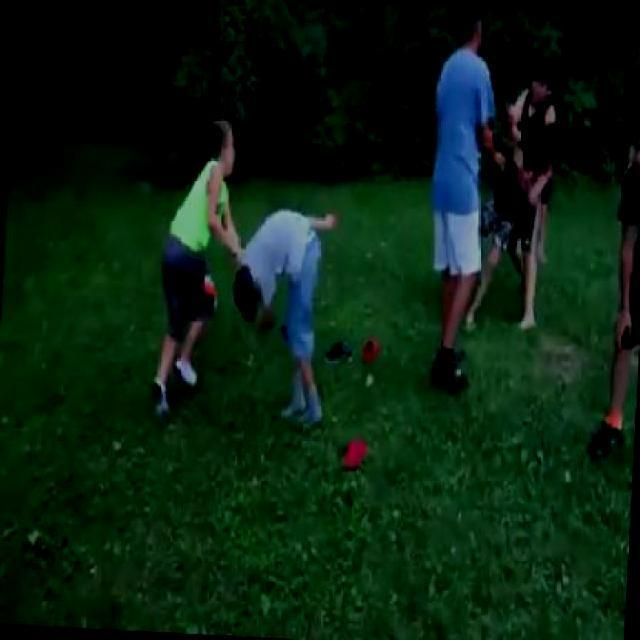fight: (148, 109, 340, 423), (477, 56, 560, 333)
non-fight: (590, 106, 638, 454)
